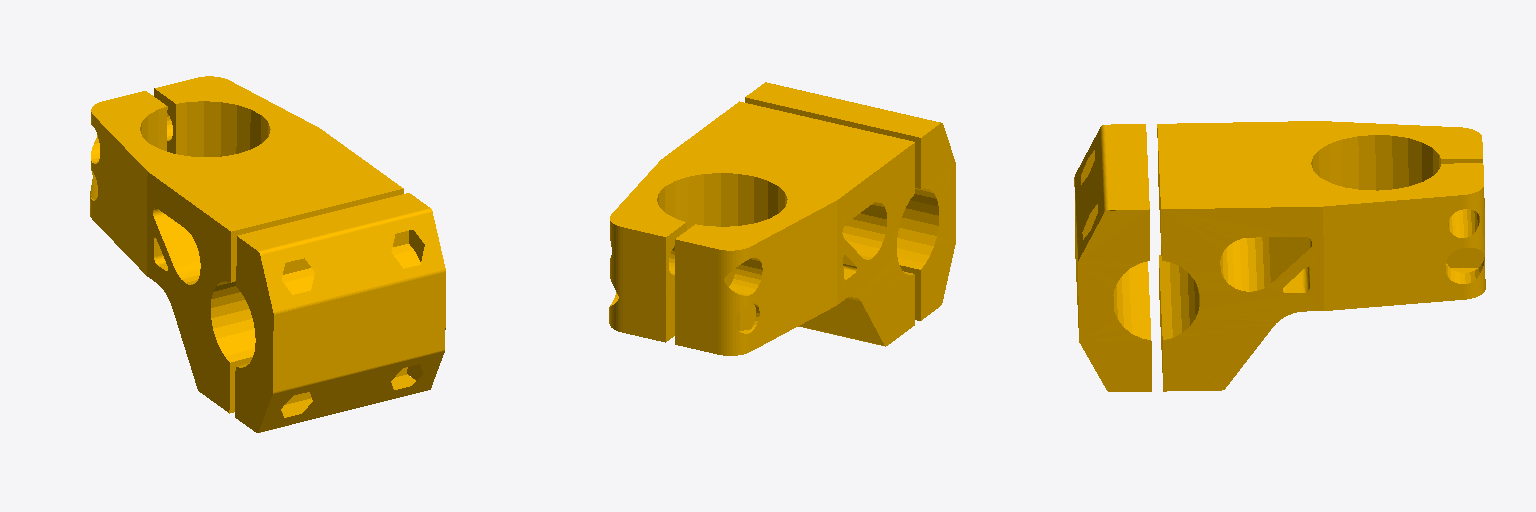
Rendered from FrontLoad2.obj.
3 renders of one model, left to right at view 1: azimuth 30°, elevation 25°; view 2: azimuth 150°, elevation 25°; view 3: azimuth 270°, elevation 25°, orthographic.
Visible parts, largest first — view 1: Front_Load_2; view 2: Front_Load_2; view 3: Front_Load_2.
Part boxes in pixels (x1,y1,x2,y2): Front_Load_2: (90, 76, 445, 432); Front_Load_2: (609, 82, 955, 355); Front_Load_2: (1074, 121, 1485, 391).
Bounding box in the file's own units: 0.0446 × 0.0446 × 0.0892.